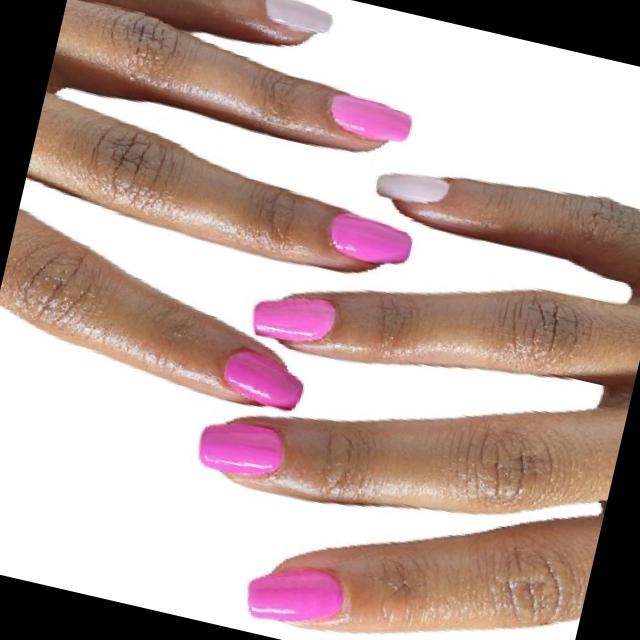Nail: (246, 568, 343, 621), (223, 349, 302, 409), (198, 421, 283, 475), (328, 211, 410, 262), (329, 92, 411, 140), (252, 295, 335, 340), (263, 0, 331, 33), (375, 173, 449, 202)
